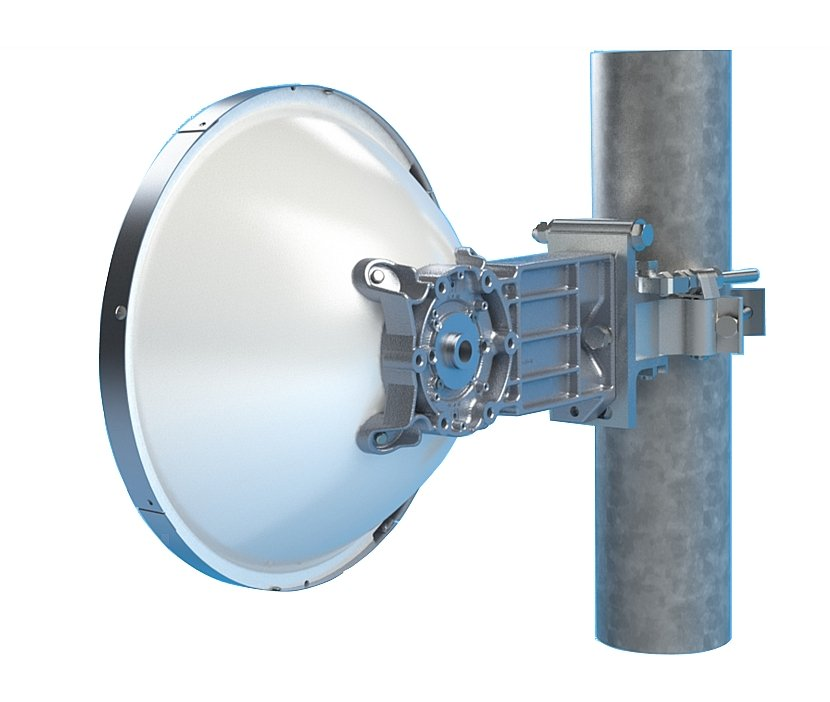ba: (78, 64, 537, 627)
